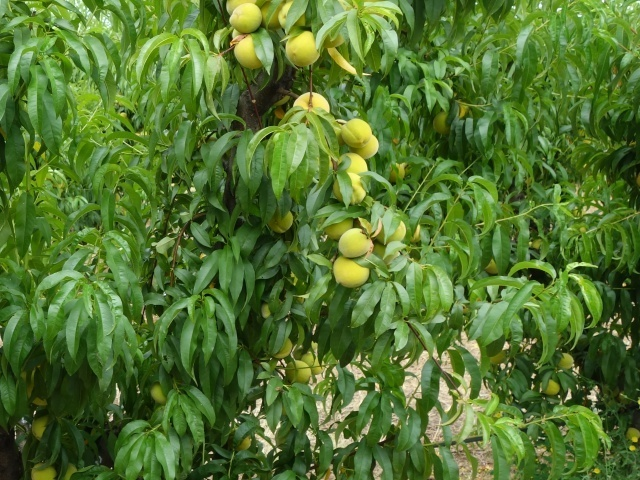peach: (282, 26, 323, 71), (290, 88, 334, 126), (333, 253, 373, 292), (330, 171, 371, 207), (224, 0, 264, 35), (233, 32, 268, 71), (339, 114, 375, 149), (339, 225, 374, 261), (28, 411, 60, 447), (336, 148, 372, 178), (323, 212, 356, 244), (264, 203, 294, 237), (353, 131, 384, 163), (378, 218, 408, 250), (284, 358, 314, 388), (147, 378, 172, 409), (270, 335, 295, 363), (430, 109, 455, 136), (26, 460, 58, 479), (554, 350, 576, 376), (387, 159, 409, 184), (540, 376, 562, 398)
